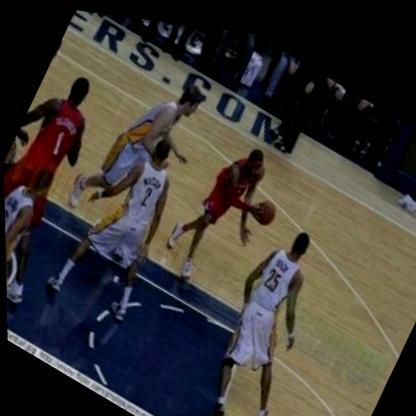basketball: (248, 186, 281, 226)
